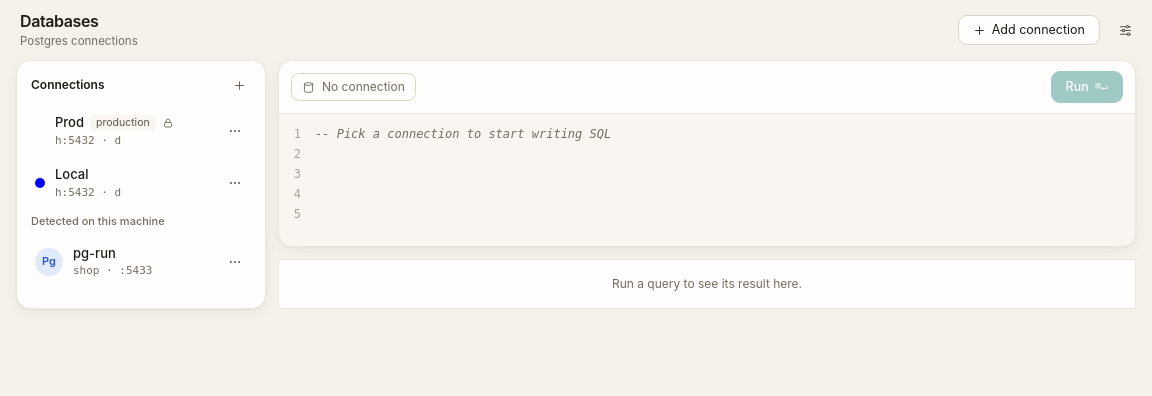
DatabasesPage › Clear history is disabled while the history is empty
The image size is (1152, 396).
Click the element with test id "saved-row" showing "Local h:5432 · d" at (72,174), box top-left (25, 157), bottom-right (257, 209)
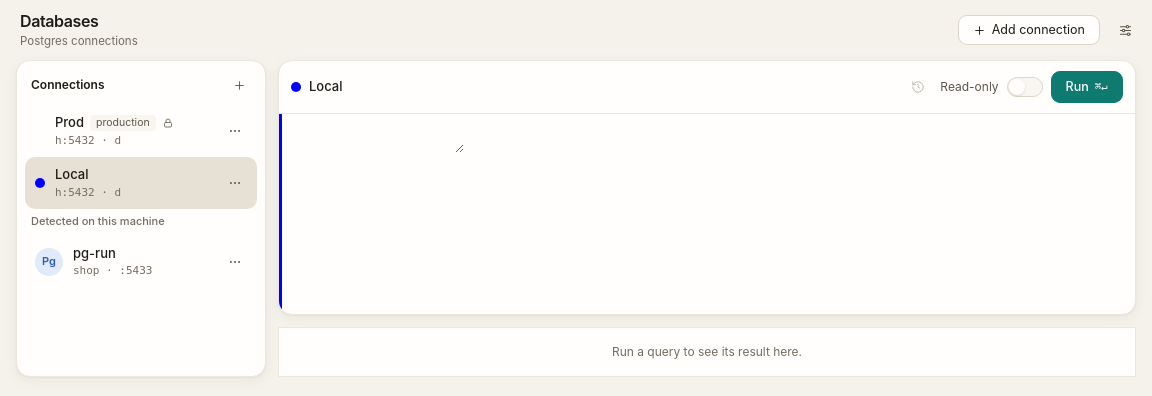
Now the button named "Clear history" is disabled, box top-left (904, 73), bottom-right (932, 101)
